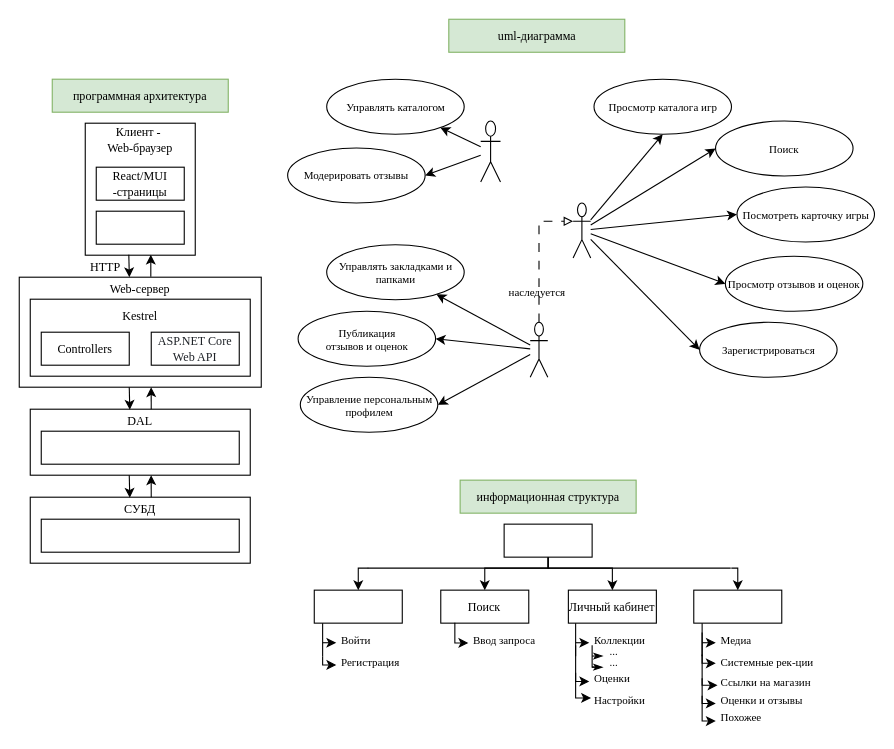
Image size: 894x749. Some labels were removed from this diagram. The shapes that lost their labels are listed below. From the top down, each one's box as (x1, y1, x2, y2) in pixels, then its label:
(480, 120, 501, 182): Администратор
(95, 210, 184, 244): TypeScript
(572, 202, 591, 258): Гость
(529, 321, 548, 377): Авторизованный пользователь
(40, 430, 239, 464): Entity Framework Core
(40, 518, 239, 552): PostgreSQL
(503, 523, 592, 557): Главная
(313, 589, 402, 623): Вход
(693, 589, 782, 623): Карточка игры
